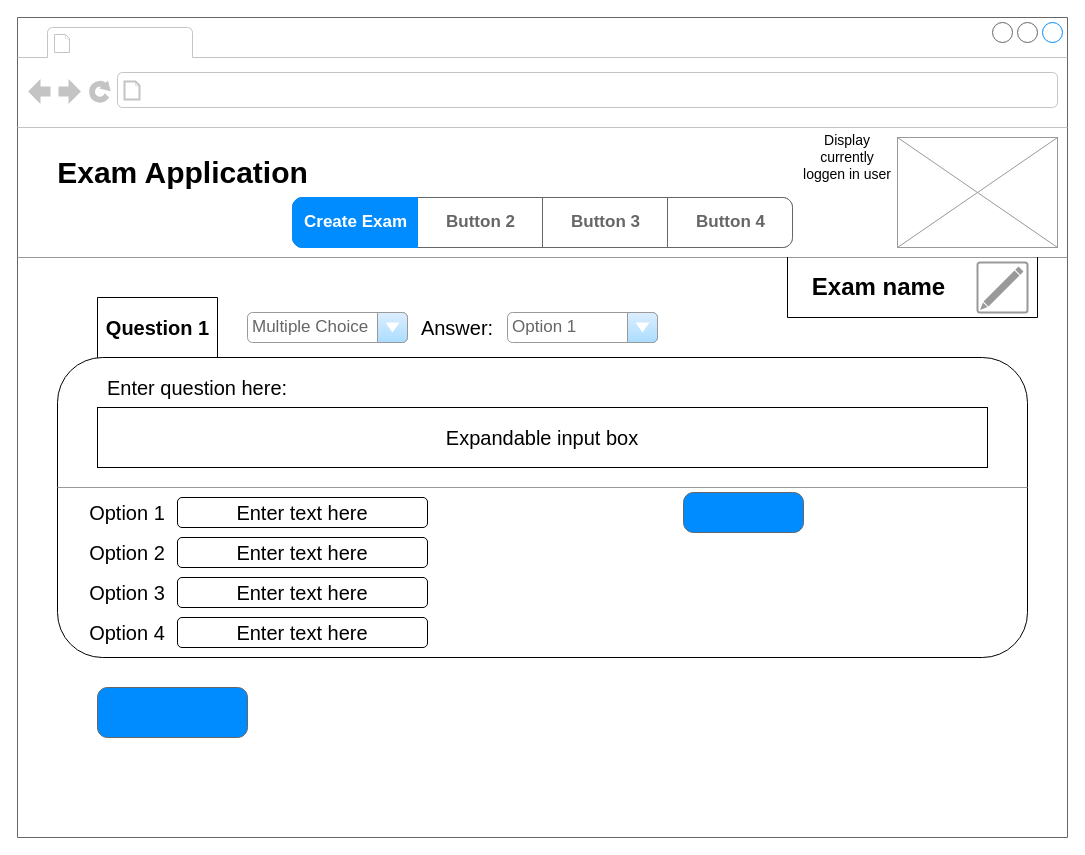
Image size: 1085x855. Some labels were removed from this diagram. Each missing label, with the centre of its shape:
"Add more options?" goes at (x=743, y=512).
"Add question" goes at (x=172, y=712).
"https://www.draw.io" goes at (x=272, y=90).
"Page 1" goes at (x=132, y=42).
